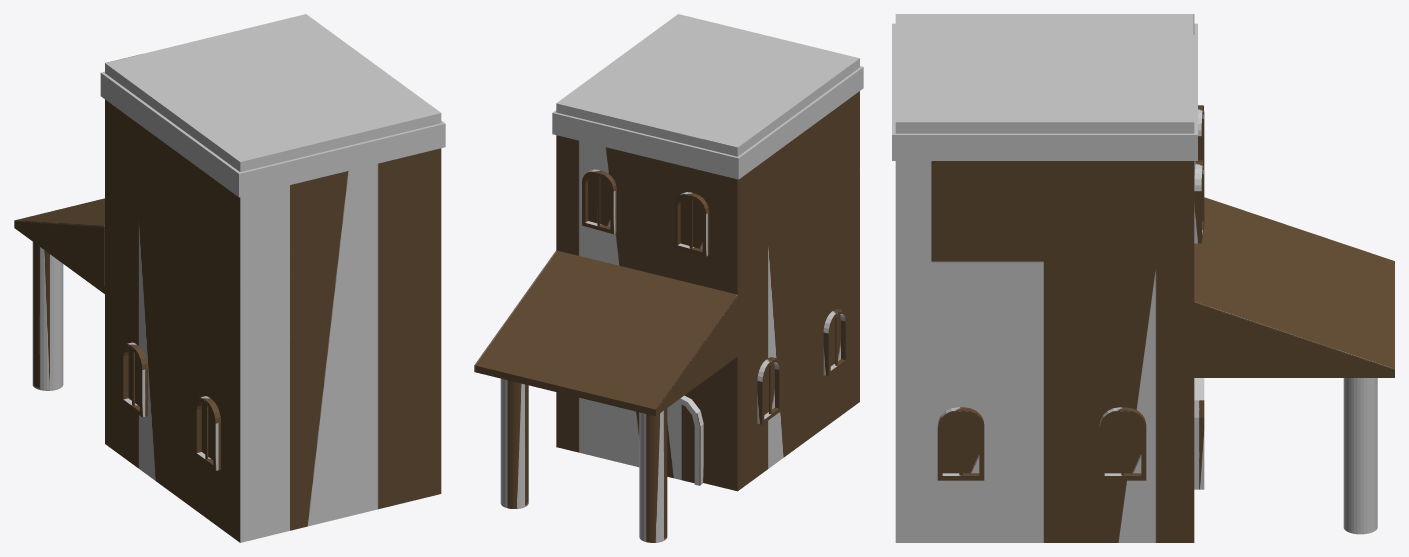
The model's file is Estrutura1.fbx.
The picture shows the model from 3 angles, left to right: view 1: azimuth 30°, elevation 25°; view 2: azimuth 150°, elevation 25°; view 3: azimuth 270°, elevation 25°; orthographic projection. The views are drawn at different scales.
Parts seen in each view (by area): view 1: Cube.001, Cube, Cylinder.001, Plane.003, Plane.004; view 2: Cube.001, Cube, Cylinder.001, Cylinder, Plane, Plane.002, Plane.001, Plane.003, Plane.004; view 3: Cube.001, Cube, Cylinder, Plane.005, Plane.006, Plane, Plane.001.
Part boxes in pixels (x1,y1,x2,y2): Cube.001: [100, 14, 445, 542]; Cube: [14, 198, 104, 293]; Cylinder.001: [32, 242, 63, 390]; Plane.003: [121, 342, 147, 417]; Plane.004: [194, 396, 220, 470]; Cube.001: [552, 14, 863, 491]; Cube: [474, 250, 737, 416]; Cylinder.001: [639, 408, 667, 542]; Cylinder: [500, 378, 528, 508]; Plane: [667, 395, 703, 485]; Plane.002: [674, 192, 709, 256]; Plane.001: [582, 169, 616, 234]; Plane.003: [757, 357, 781, 424]; Plane.004: [823, 308, 847, 376]; Cube.001: [892, 14, 1197, 542]; Cube: [1194, 197, 1394, 377]; Cylinder: [1343, 378, 1377, 534]; Plane.005: [937, 407, 984, 480]; Plane.006: [1099, 407, 1146, 480]; Plane: [1194, 378, 1204, 489]; Plane.001: [1194, 160, 1204, 243].
Bounding box in the file's own units: 379 × 649 × 703.
5 materials, 5 textured.
